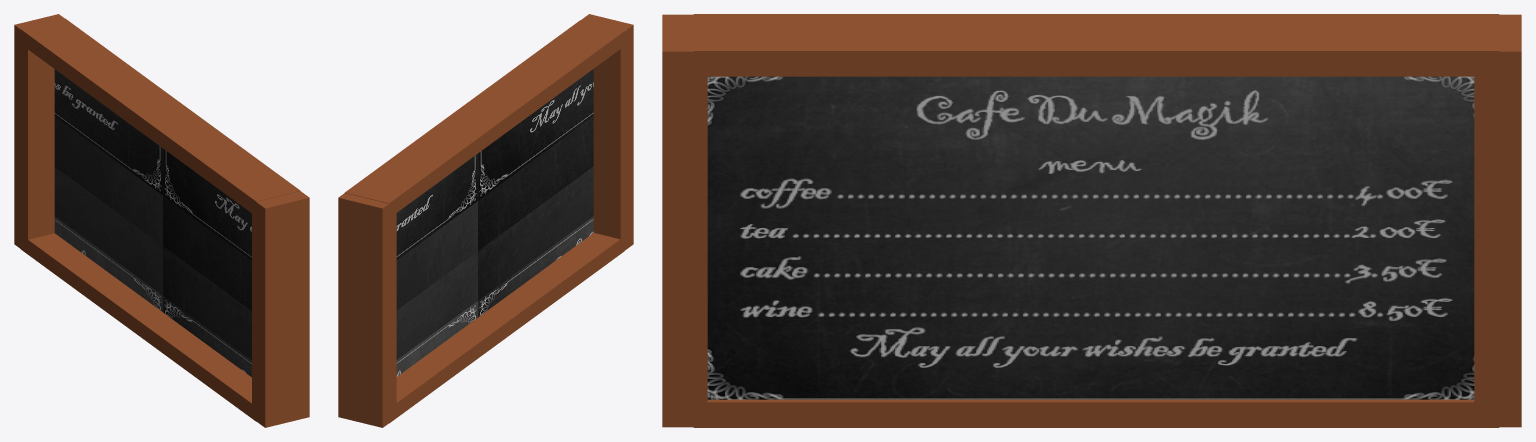
Rendered from menu.glb.
The picture shows the model from 3 angles, left to right: view 1: azimuth 30°, elevation 25°; view 2: azimuth 150°, elevation 25°; view 3: azimuth 270°, elevation 25°; orthographic projection. The views are drawn at different scales.
Parts seen in each view (by area): view 1: polySurface5440; view 2: polySurface5440; view 3: polySurface5440.
Boxes of the visible parts, left/top/right/bottom form: polySurface5440: left=14, top=14, right=309, bottom=427; polySurface5440: left=338, top=14, right=633, bottom=427; polySurface5440: left=662, top=14, right=1521, bottom=427.
Bounding box in the file's own units: 2.1 × 9.93 × 20.52.
Materials: 2 (1 with a texture image).
